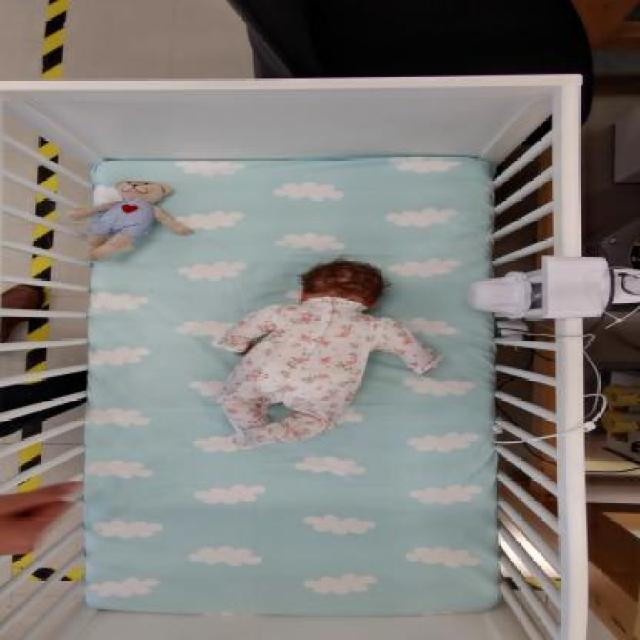baby: (222, 256, 445, 454)
